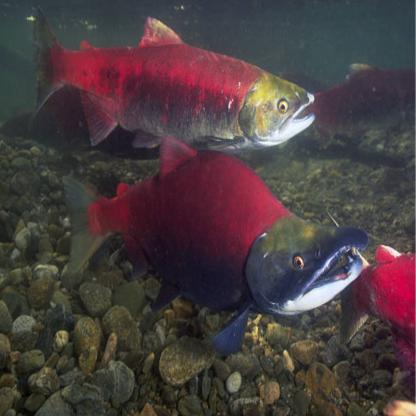sockeye: (75, 164, 348, 332), (34, 7, 314, 158)
